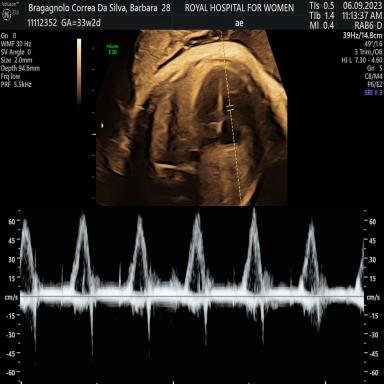Ultrasound-Waves: (24, 208, 364, 384)
